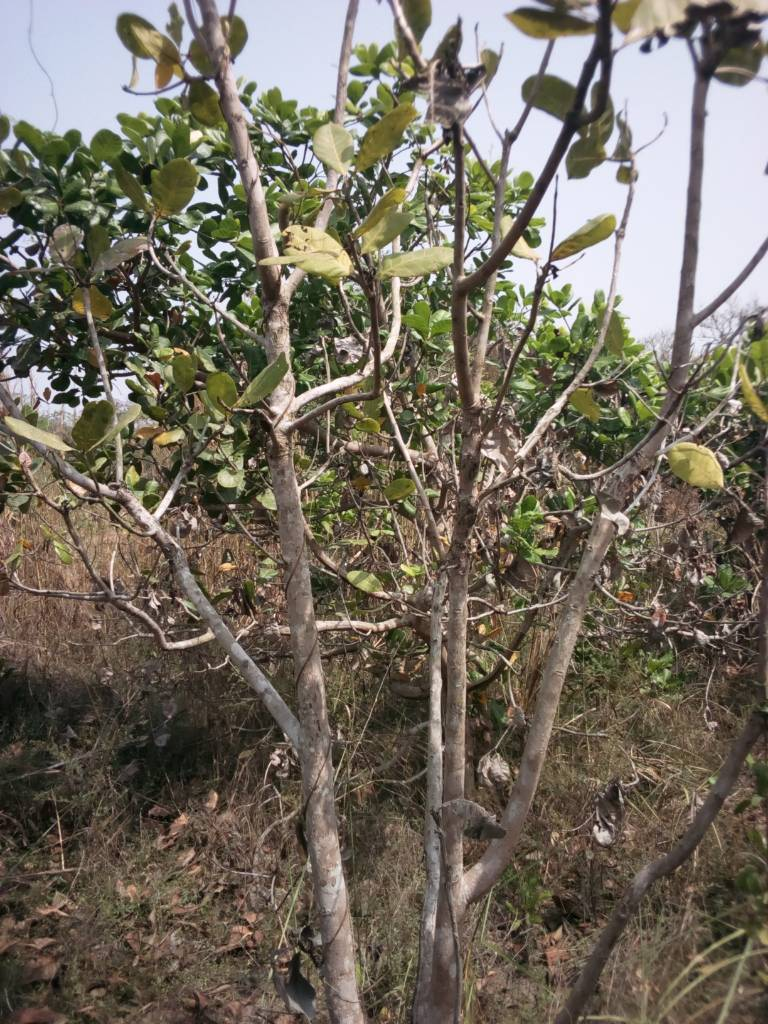Dessèchement des bourgeons: (671, 597, 758, 694), (346, 238, 382, 296)
